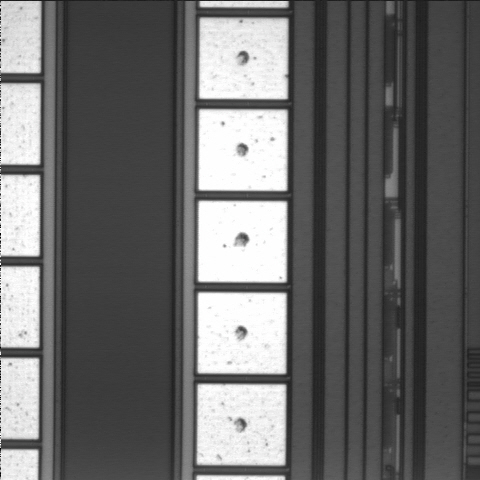pad: (198, 109, 287, 191), (198, 201, 287, 283), (198, 292, 286, 374), (199, 18, 288, 99), (197, 384, 286, 465)
